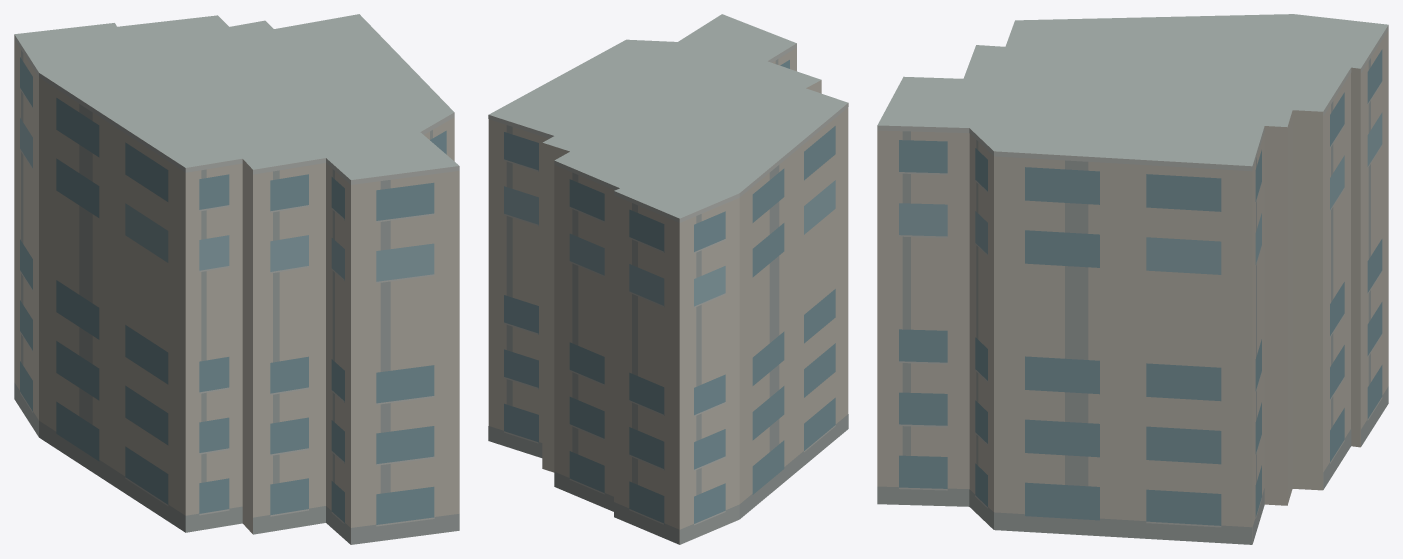
The model's file is residential-ed247282-260c-4e89-998f-6720015b0af6.glb.
3 renders of one model, left to right at view 1: azimuth 30°, elevation 25°; view 2: azimuth 150°, elevation 25°; view 3: azimuth 270°, elevation 25°, orthographic. The views are drawn at different scales.
Parts seen in each view (by area): view 1: residential-ed247282-260c-4e89-998f-6720015b0af6.tmp; view 2: residential-ed247282-260c-4e89-998f-6720015b0af6.tmp; view 3: residential-ed247282-260c-4e89-998f-6720015b0af6.tmp.
Part boxes in pixels (x1,y1,x2,y2): residential-ed247282-260c-4e89-998f-6720015b0af6.tmp: (14, 14, 459, 544); residential-ed247282-260c-4e89-998f-6720015b0af6.tmp: (488, 14, 848, 544); residential-ed247282-260c-4e89-998f-6720015b0af6.tmp: (877, 14, 1388, 544).
Size of the model in its own units: 15.79 by 18.3 by 22.41.
